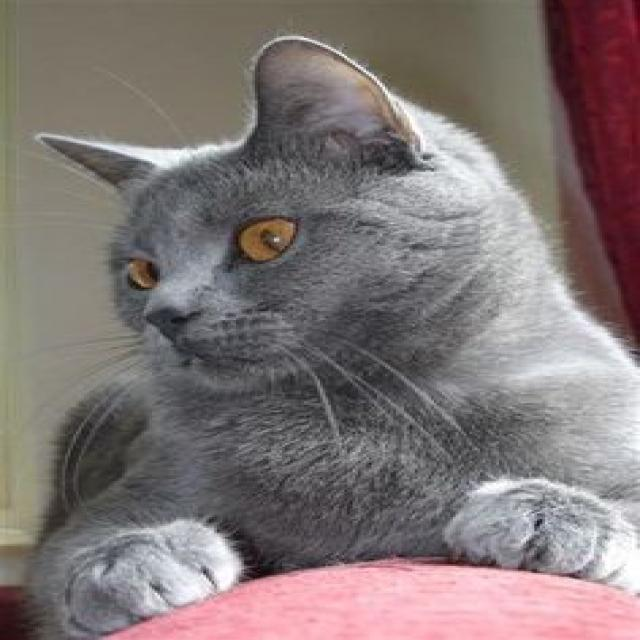british shorthair: (29, 34, 640, 555)
